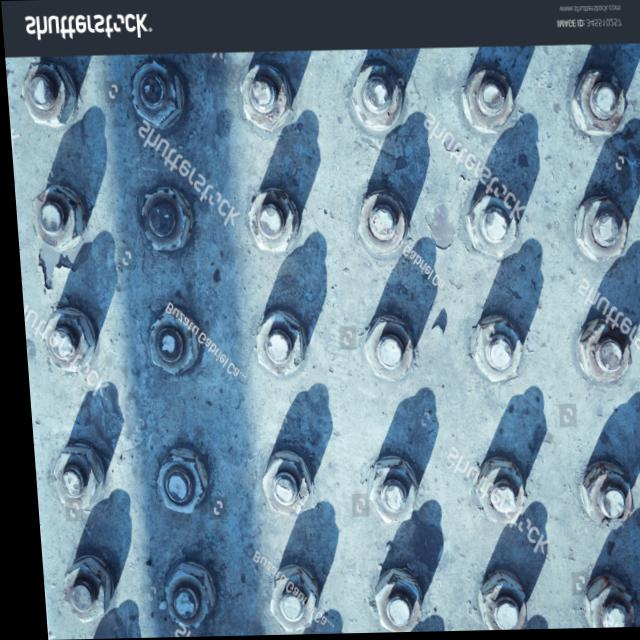Regular bolt: (18, 61, 78, 130), (570, 72, 628, 143), (571, 196, 628, 267), (462, 190, 518, 261), (348, 63, 403, 134), (43, 445, 101, 512), (238, 63, 292, 134), (571, 464, 626, 533), (573, 319, 628, 388), (128, 61, 183, 130), (361, 455, 412, 528), (27, 184, 84, 249), (257, 569, 312, 636), (143, 309, 197, 377), (460, 68, 514, 136), (466, 318, 520, 385), (353, 192, 405, 261), (254, 451, 307, 518), (36, 308, 92, 371), (154, 564, 206, 631), (469, 460, 521, 527), (150, 449, 201, 517), (244, 191, 298, 255), (137, 188, 190, 253), (249, 311, 301, 377), (360, 316, 410, 383), (363, 570, 414, 635), (53, 558, 103, 622), (468, 574, 517, 633), (575, 578, 626, 632)
